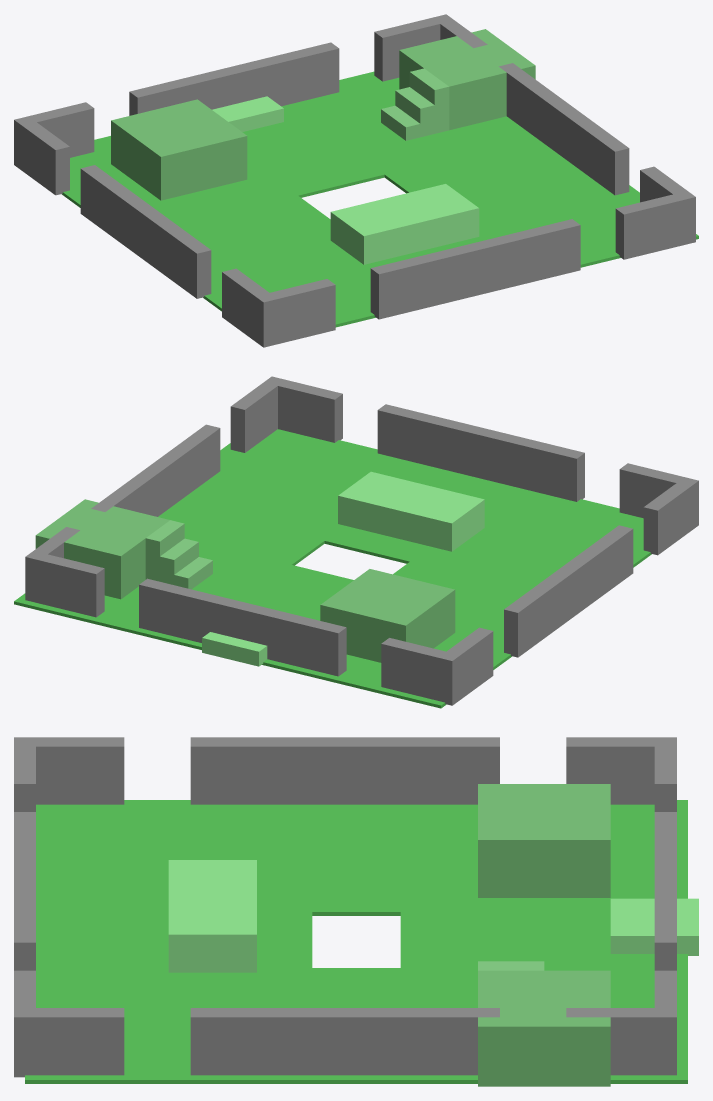
File: ParkourTest.glb
The picture shows the model from 3 angles, top to bottom: view 1: azimuth 30°, elevation 25°; view 2: azimuth 150°, elevation 25°; view 3: azimuth 270°, elevation 25°; orthographic projection. The views are drawn at different scales.
Parts seen in each view (by area): view 1: AdventureMap; view 2: AdventureMap; view 3: AdventureMap.
Part boxes in pixels (left/top/right/bottom): AdventureMap: left=14, top=14, right=698, bottom=347; AdventureMap: left=14, top=376, right=698, bottom=708; AdventureMap: left=14, top=737, right=698, bottom=1086.
Size of the model in its own units: 31 by 3.1 by 31.
